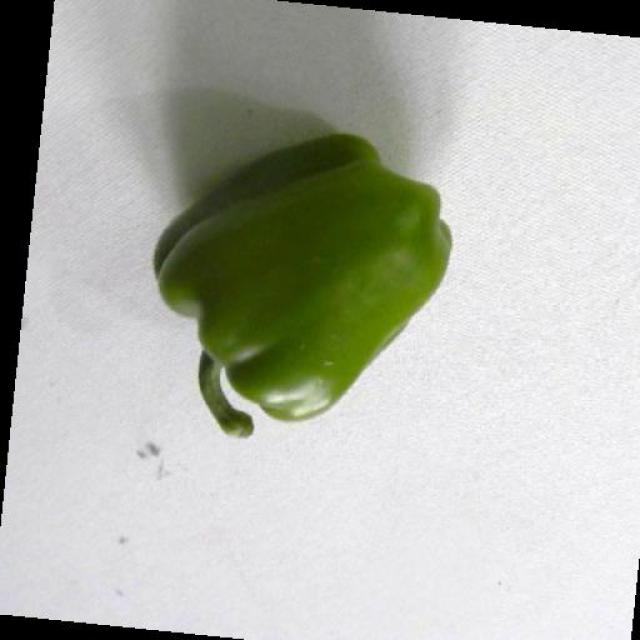Fresh_Capsicum: (162, 203, 423, 372)
